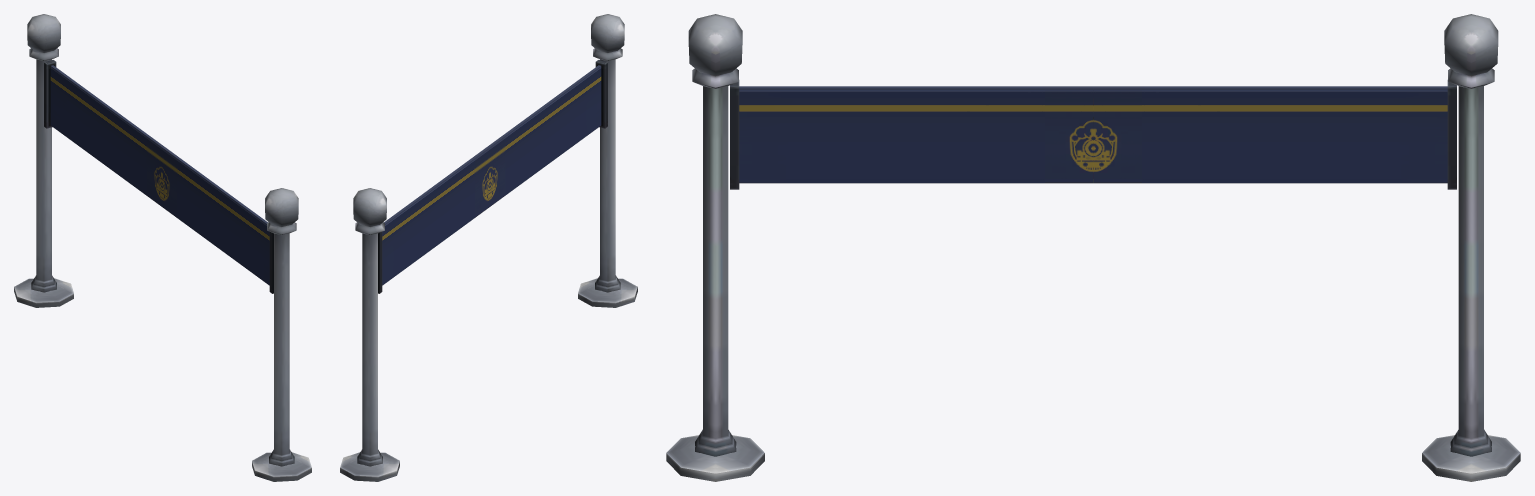
The model's file is my_highlander_01_fence_02.glb.
3 views of the same model, side by side, from view 1: azimuth 30°, elevation 25°; view 2: azimuth 150°, elevation 25°; view 3: azimuth 270°, elevation 25° (orthographic). The views are drawn at different scales.
Parts seen in each view (by area): view 1: my_highlander_01_fence_02; view 2: my_highlander_01_fence_02; view 3: my_highlander_01_fence_02.
Part boxes in pixels (x1,y1,x2,y2): my_highlander_01_fence_02: [14, 14, 311, 481]; my_highlander_01_fence_02: [340, 14, 637, 481]; my_highlander_01_fence_02: [666, 14, 1520, 481].
Size of the model in its own units: 0.000959 by 0.00477 by 0.00831.
1 material, 1 textured.
